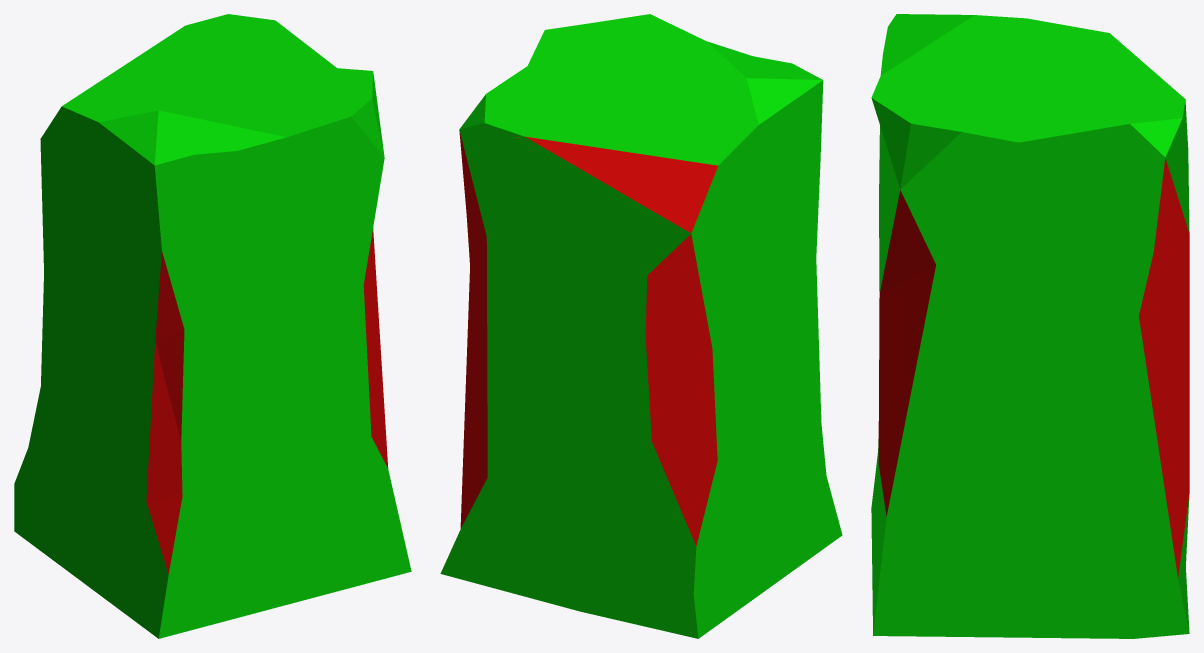
Rendered from StoneCube.fbx.
3 renders of one model, left to right at view 1: azimuth 30°, elevation 25°; view 2: azimuth 150°, elevation 25°; view 3: azimuth 270°, elevation 25°, orthographic. The views are drawn at different scales.
Parts seen in each view (by area): view 1: Cube.001; view 2: Cube.001; view 3: Cube.001.
Boxes of the visible parts, left/top/right/bottom form: Cube.001: left=14, top=14, right=411, bottom=638; Cube.001: left=440, top=14, right=842, bottom=638; Cube.001: left=871, top=14, right=1189, bottom=638.
Bounding box in the file's own units: 161 × 288 × 160.
